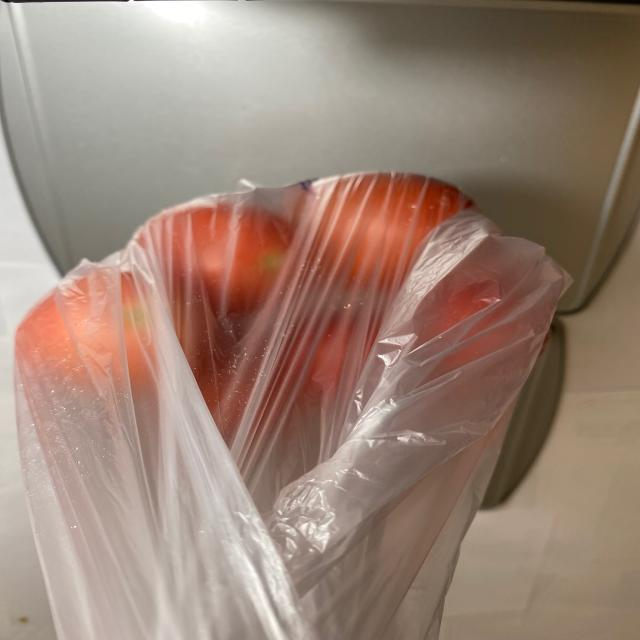tomato: (23, 170, 561, 441)
